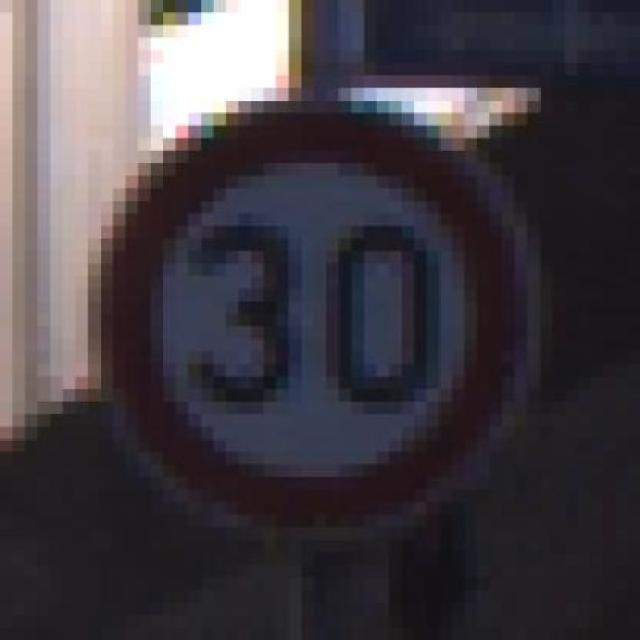Speed Limit 30 KMPh: (50, 88, 565, 528)
